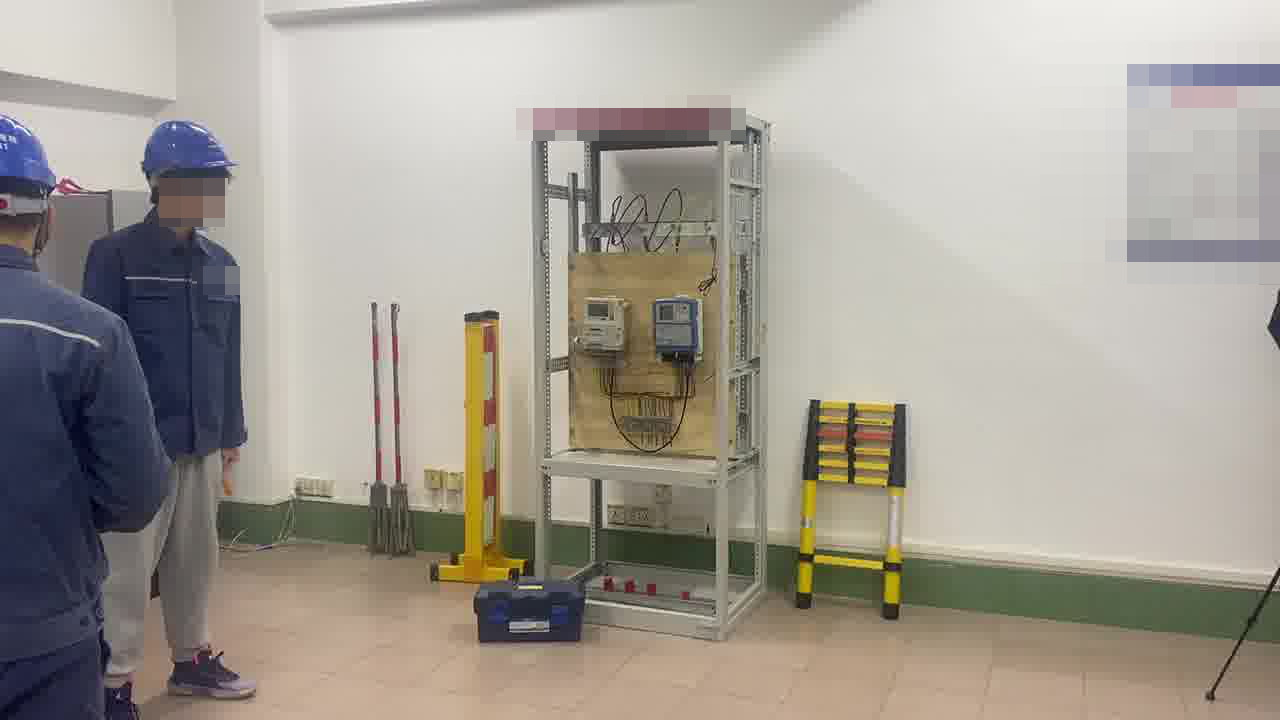downcloth: (99, 461, 219, 658)
halt: (140, 117, 236, 234), (1, 110, 61, 261)
hand: (225, 442, 247, 464)
noear: (150, 172, 185, 216)
person: (2, 99, 175, 720), (91, 103, 258, 693)
upsuit: (1, 246, 166, 646), (92, 224, 242, 439)
